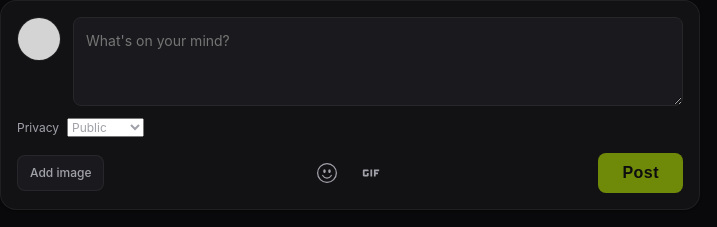
Test: NewPost › keeps submit disabled until content or an image is provided
Expected: the button "Post" is disabled, [598,153,683,193]
In the text box with placeholder "What's on your mind?": (378, 62) [73,17,683,106], type "A useful update"
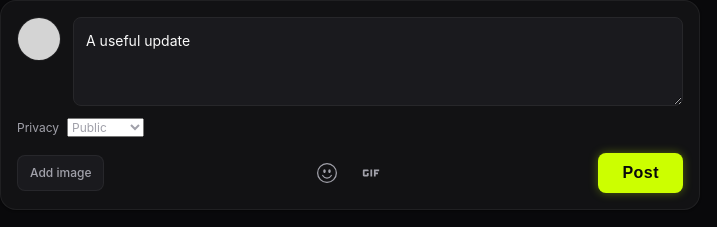
Expected: the button "Post" is enabled, [598,153,683,193]
